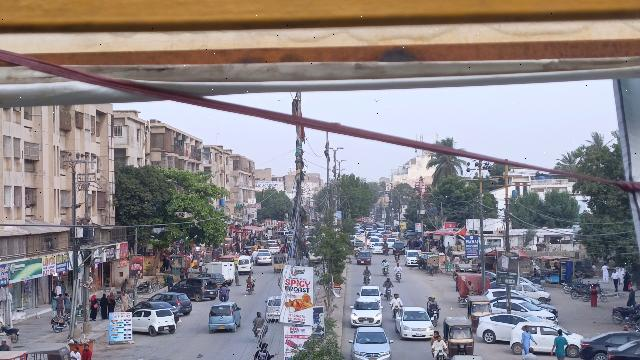Bike: (251, 325, 269, 344), (429, 347, 447, 360), (245, 283, 256, 299), (430, 308, 441, 324), (360, 273, 372, 284), (394, 271, 403, 283), (219, 292, 229, 302), (384, 286, 392, 298)
Car: (477, 311, 526, 346), (579, 329, 633, 360), (346, 326, 395, 360), (393, 305, 437, 341), (169, 276, 220, 302), (152, 290, 195, 318), (134, 308, 177, 335), (348, 297, 383, 329), (207, 302, 242, 334), (264, 294, 281, 326)
Person: (549, 328, 570, 360), (96, 292, 109, 322), (520, 324, 533, 352), (118, 289, 129, 312), (432, 331, 446, 349), (89, 293, 98, 320), (106, 291, 117, 313), (610, 268, 620, 292), (253, 310, 265, 327), (428, 295, 440, 311), (391, 293, 403, 307), (384, 276, 394, 289), (219, 282, 229, 295), (246, 273, 255, 286), (363, 265, 372, 277), (395, 261, 403, 274)
Rickshaw: (442, 315, 475, 357), (465, 293, 492, 330)
